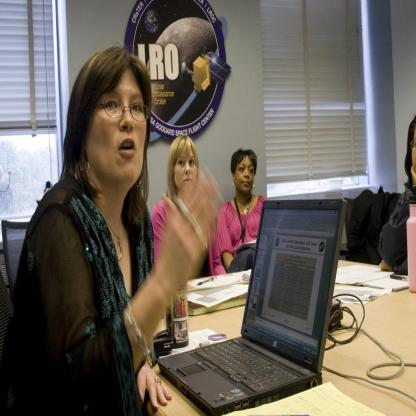board: (157, 205, 343, 411)
